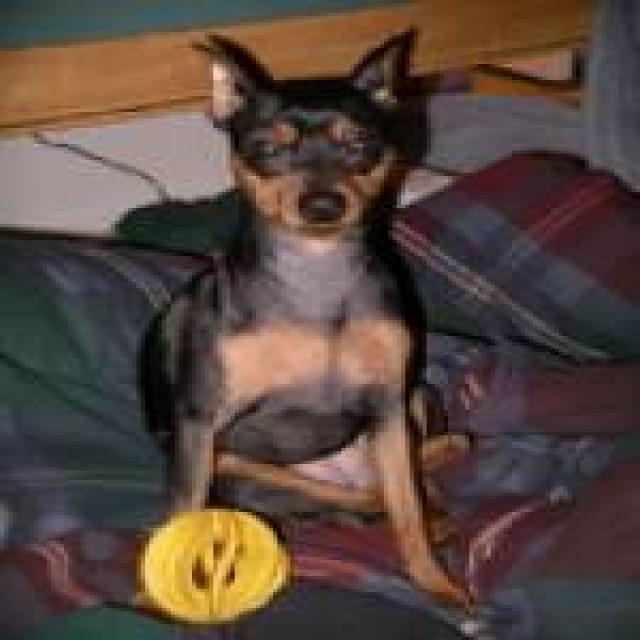dog-miniature_pinscher: (107, 16, 465, 621)
